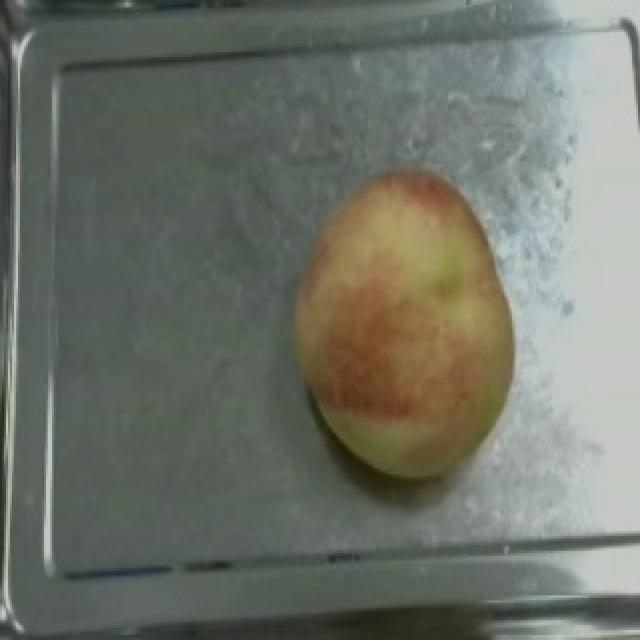Fruit: (272, 159, 528, 486)
